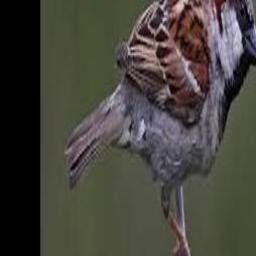Sparrow: (65, 0, 256, 256)
